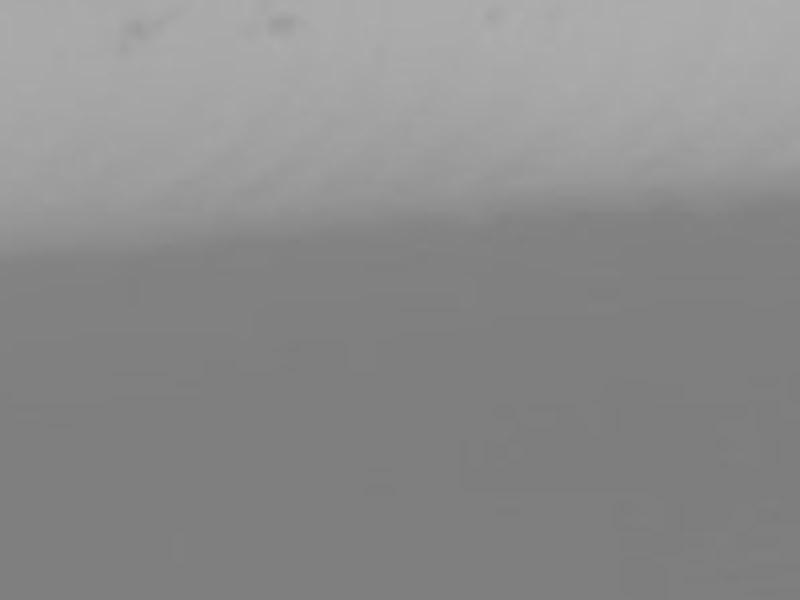defect: (263, 12, 302, 41), (124, 12, 154, 40), (480, 2, 506, 25)
